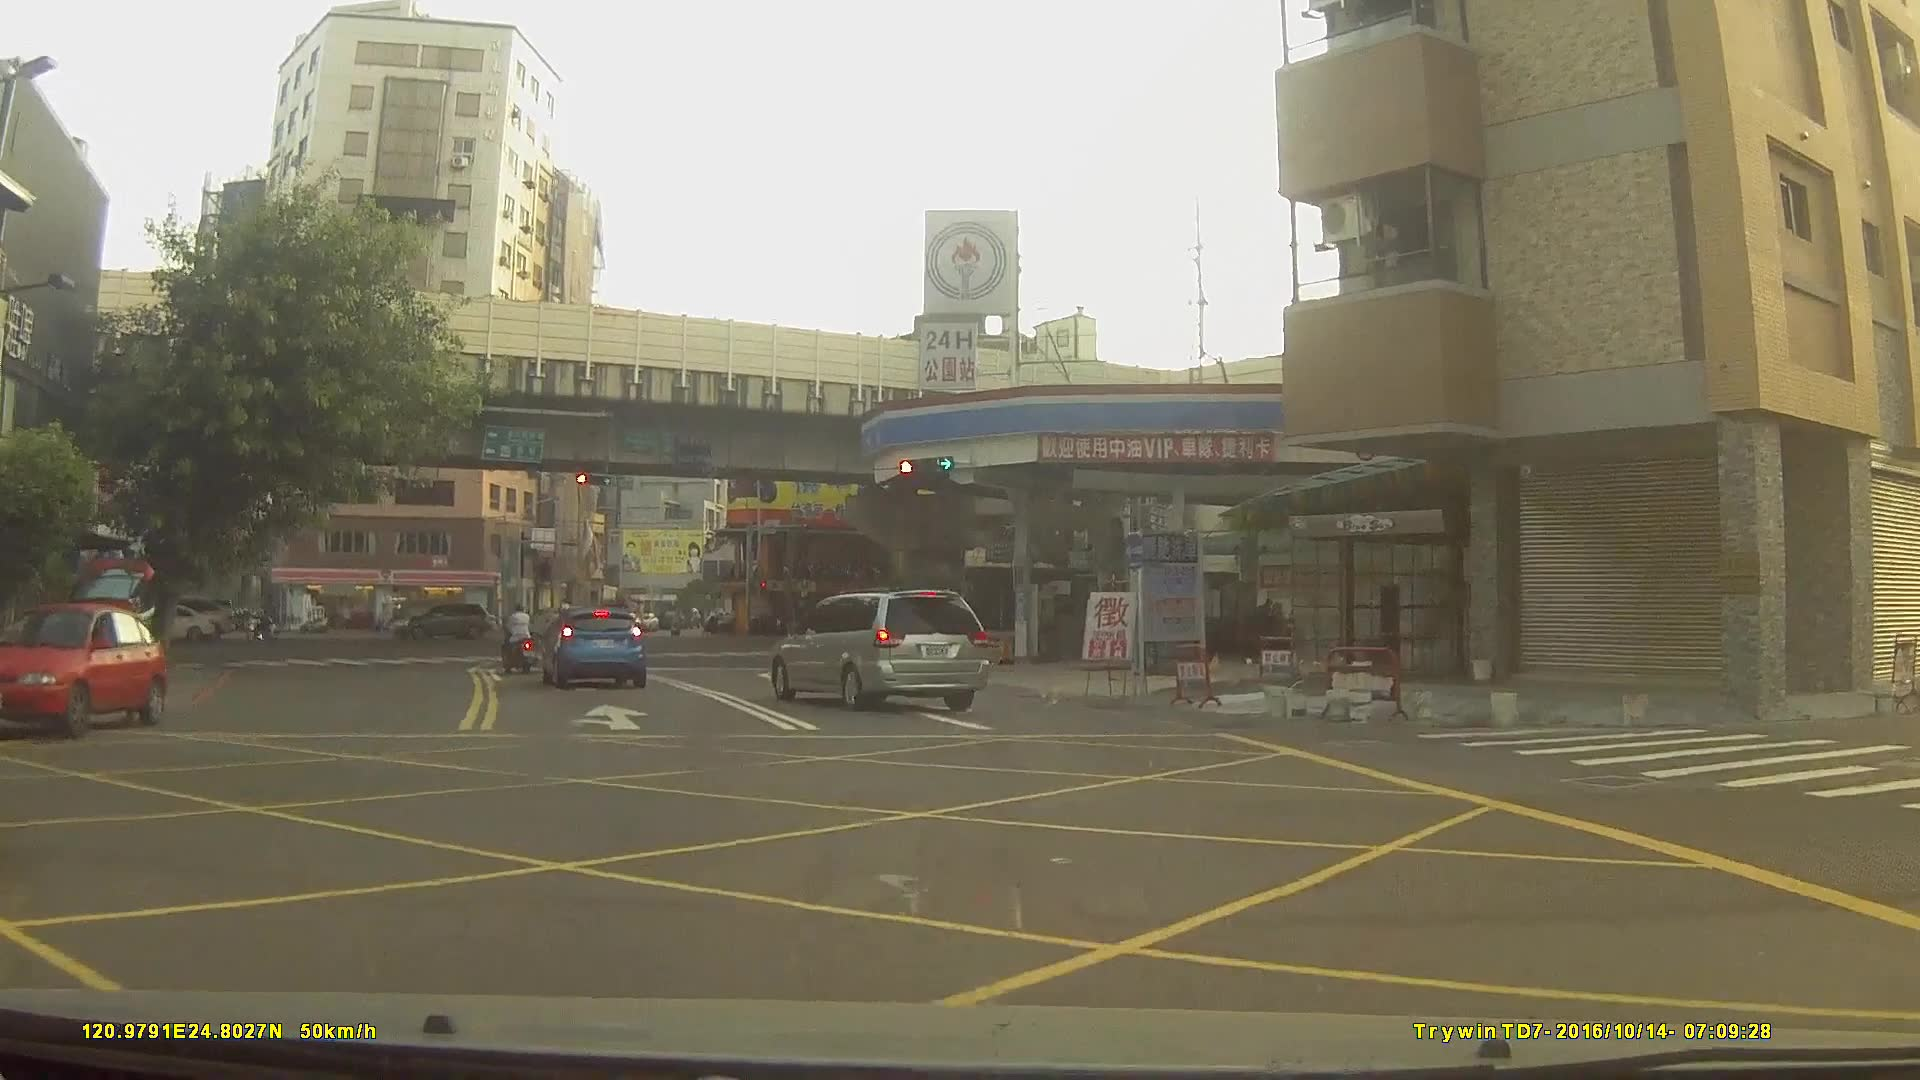rider: (501, 606, 538, 677), (248, 618, 276, 651)
vehicle: (773, 585, 991, 711), (0, 602, 167, 742), (540, 609, 646, 692), (125, 600, 217, 645), (386, 601, 490, 640), (532, 604, 611, 642)
